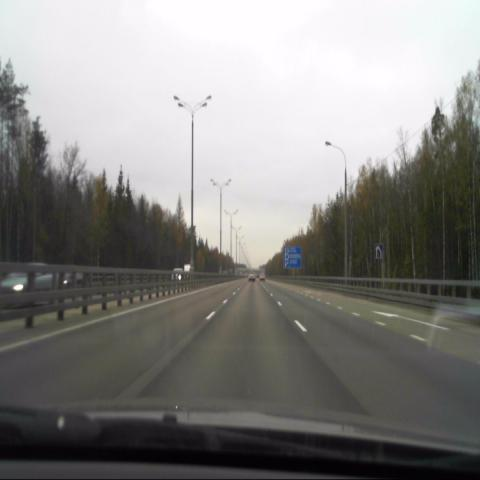5_15_5: (376, 244, 384, 259)
